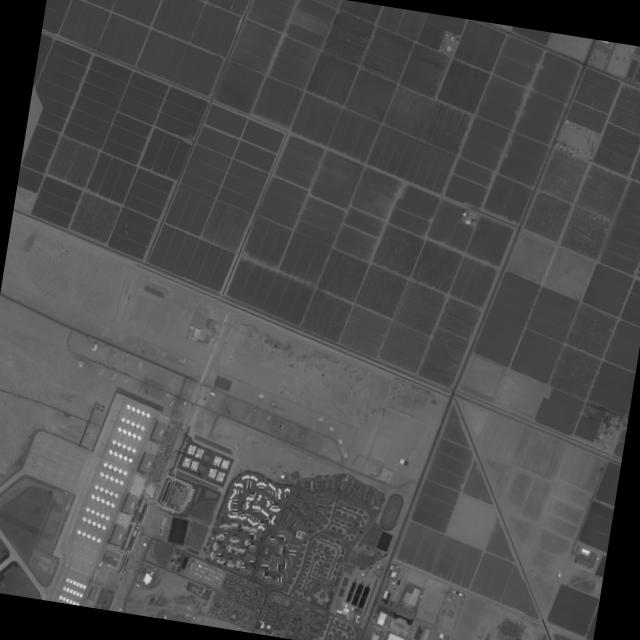storage-tank: (344, 604, 348, 608), (163, 616, 166, 619)
